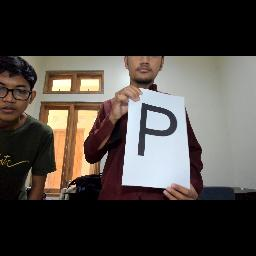p: (131, 98, 187, 170)
